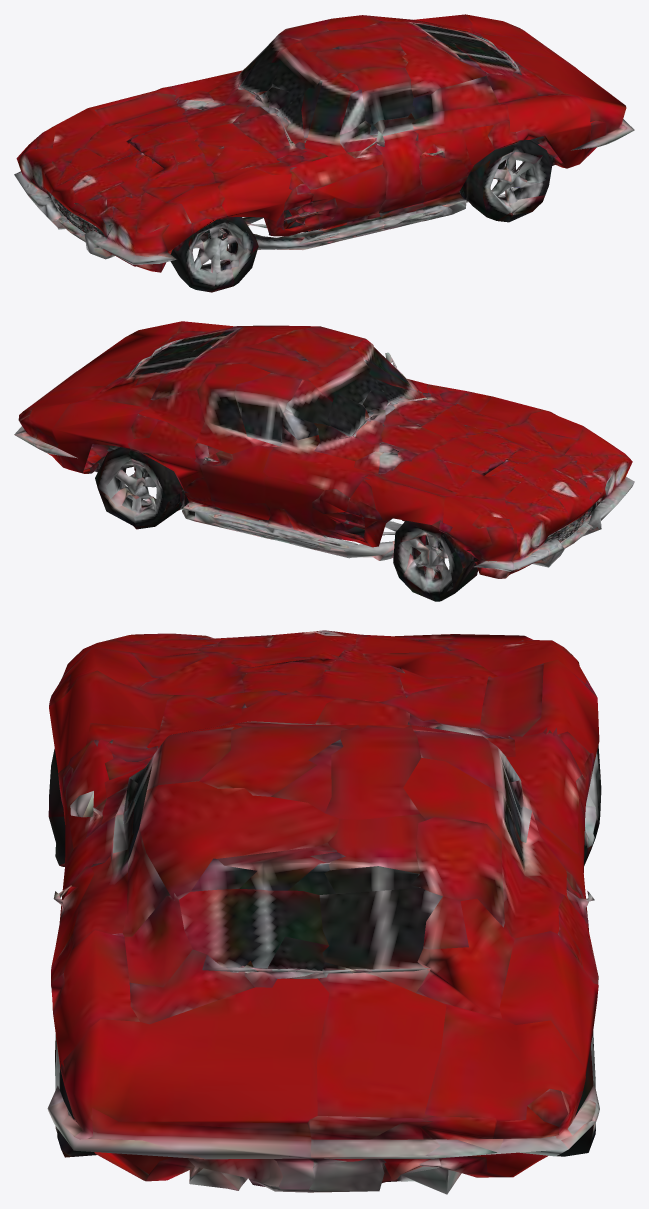
The model's file is car2.glb.
3 renders of one model, top to bottom at view 1: azimuth 30°, elevation 25°; view 2: azimuth 150°, elevation 25°; view 3: azimuth 270°, elevation 25°, orthographic. The views are drawn at different scales.
Size of the model in its own units: 190 by 52.43 by 87.8.
Materials: 1 (1 with a texture image).
